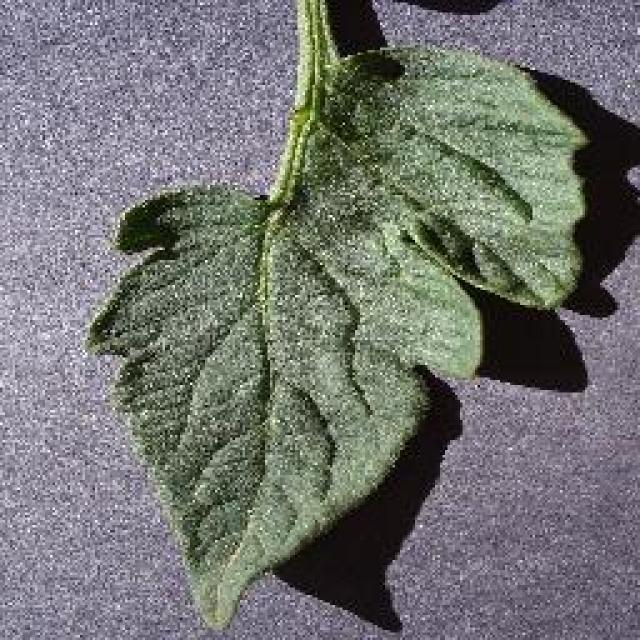Tomato___healthy: (81, 0, 586, 631)
